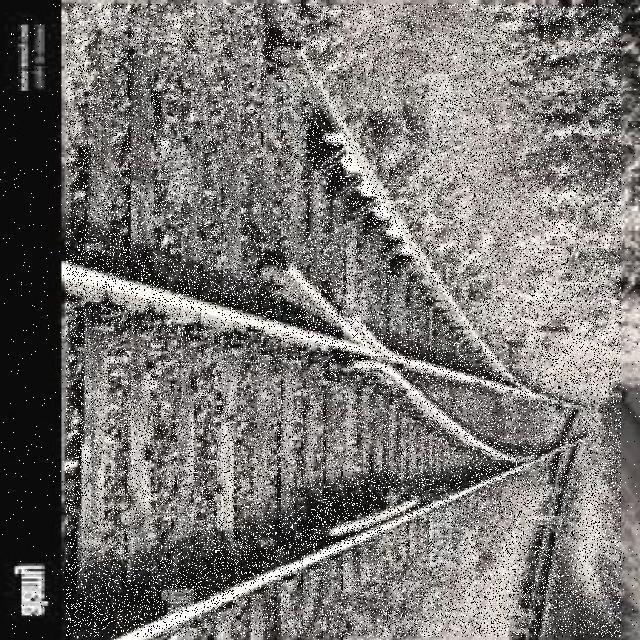rail: (66, 4, 621, 637)
